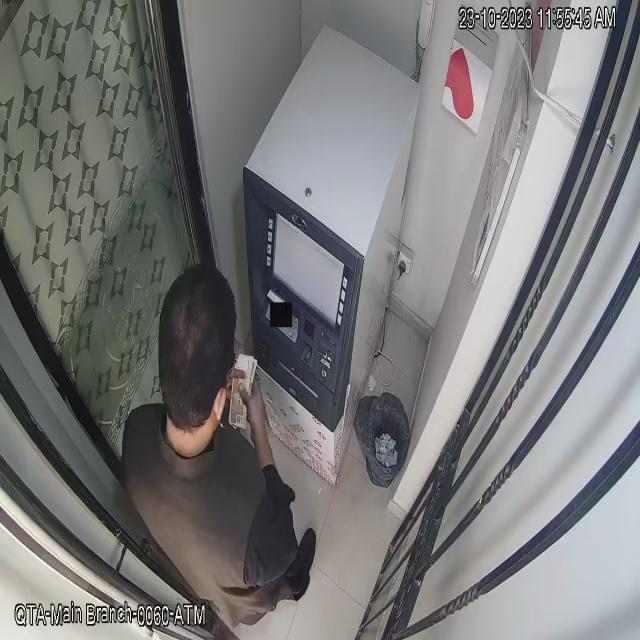note: (226, 349, 259, 436), (239, 346, 241, 347), (211, 134, 211, 134), (497, 273, 497, 274), (273, 168, 273, 169)
